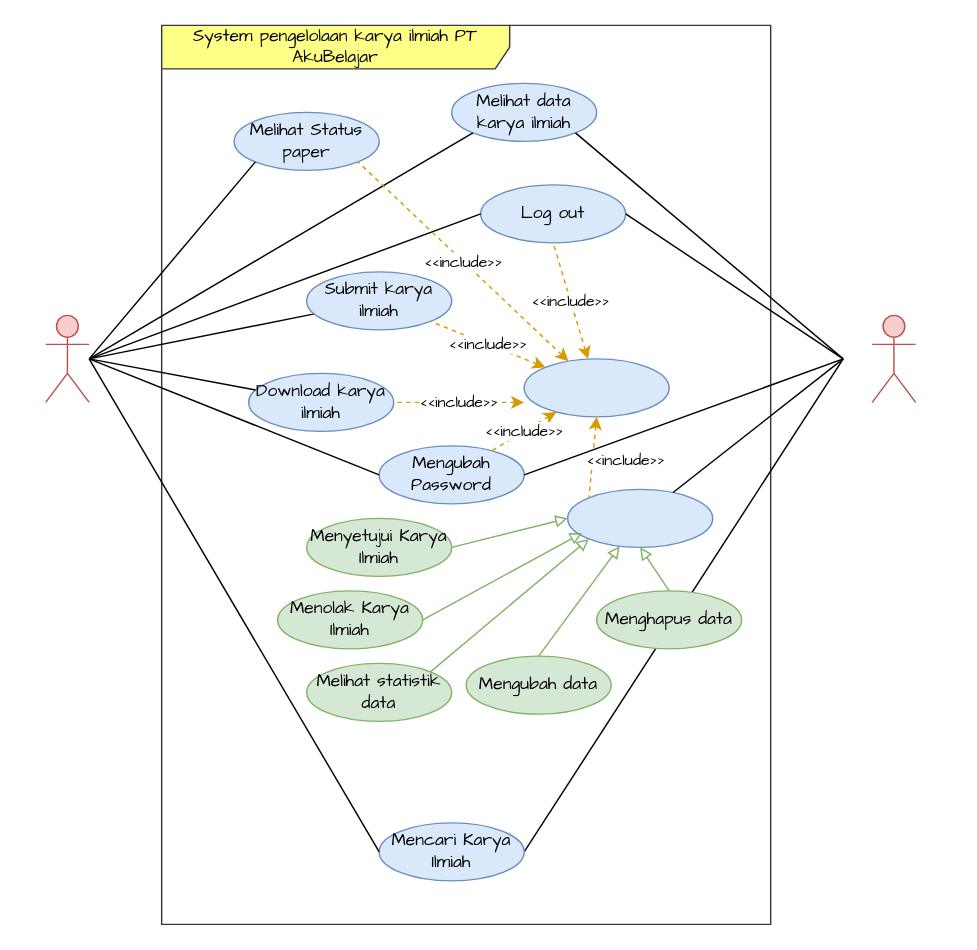
This 977x950 diagram has some shape labels left out. Here are the shapes that lost their labels. From the top down, the box of each, then its label:
(44, 314, 89, 402): Mahasiswa
(871, 314, 916, 402): Program Studi
(523, 357, 669, 417): Log in
(566, 488, 713, 547): Mengolah data karya ilmiah
